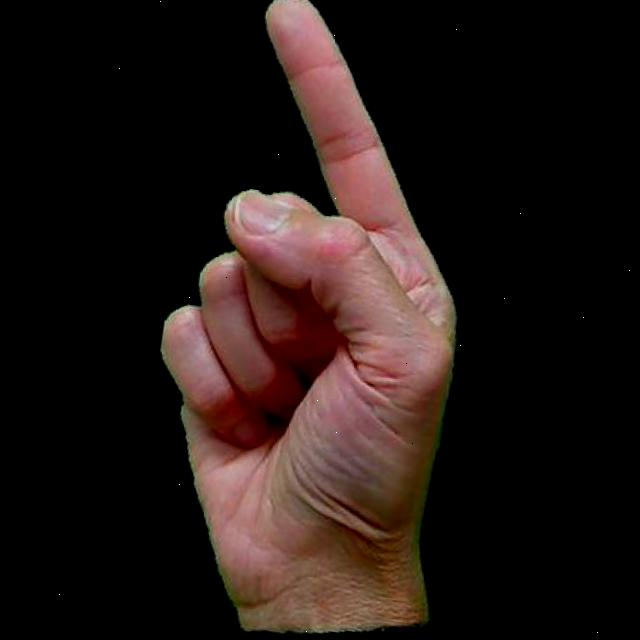z: (107, 0, 527, 640)
